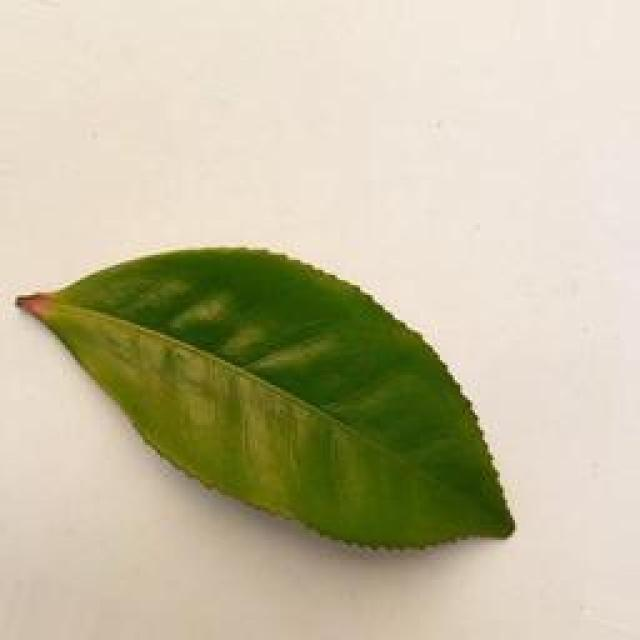Healthy: (16, 245, 516, 546)
